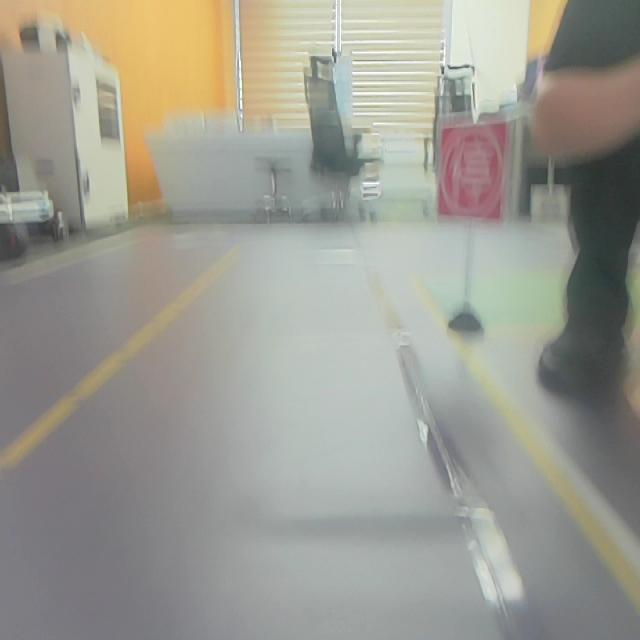left_lane: (412, 284, 640, 614), (2, 251, 236, 480)
